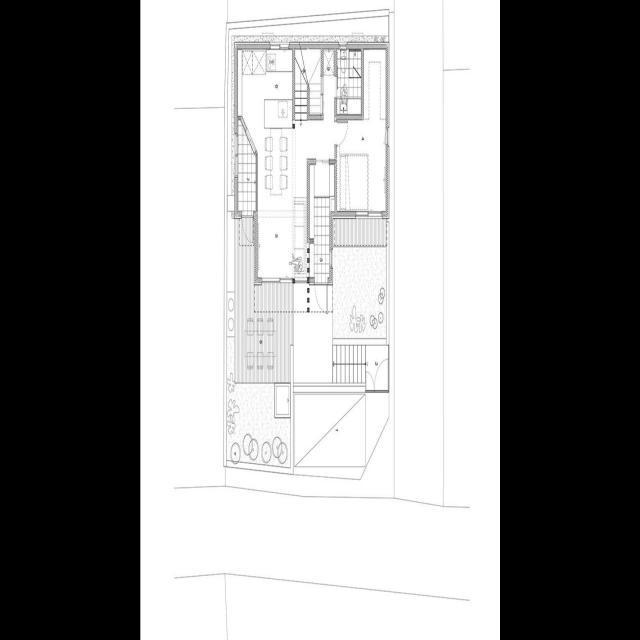background: (140, 0, 500, 640)
space_balconi: (237, 119, 256, 212)
space_bedroom: (336, 49, 386, 211)
space_front: (309, 164, 334, 285)
space_kitchen: (237, 49, 292, 154)
space_living_room: (257, 49, 334, 278)
space_staircase: (294, 49, 321, 120)
space_toilet: (337, 49, 361, 115)
